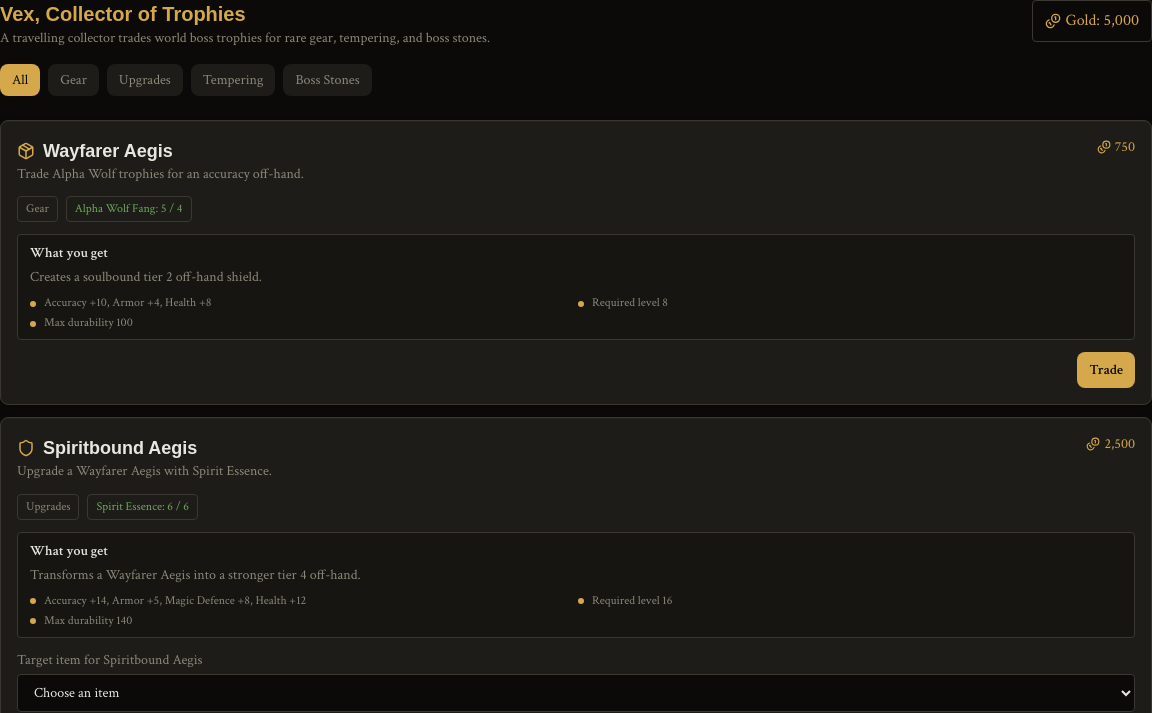
Test case: VexScreen › shows API errors and keeps the screen usable
The image size is (1152, 713).
Expected: the heading "Wayfarer Aegis" is shown, top-left (43, 137), bottom-right (173, 165)
Click the button with aria-label "Trade Wayfarer Aegis": (1106, 370) top-left (1078, 352), bottom-right (1135, 388)
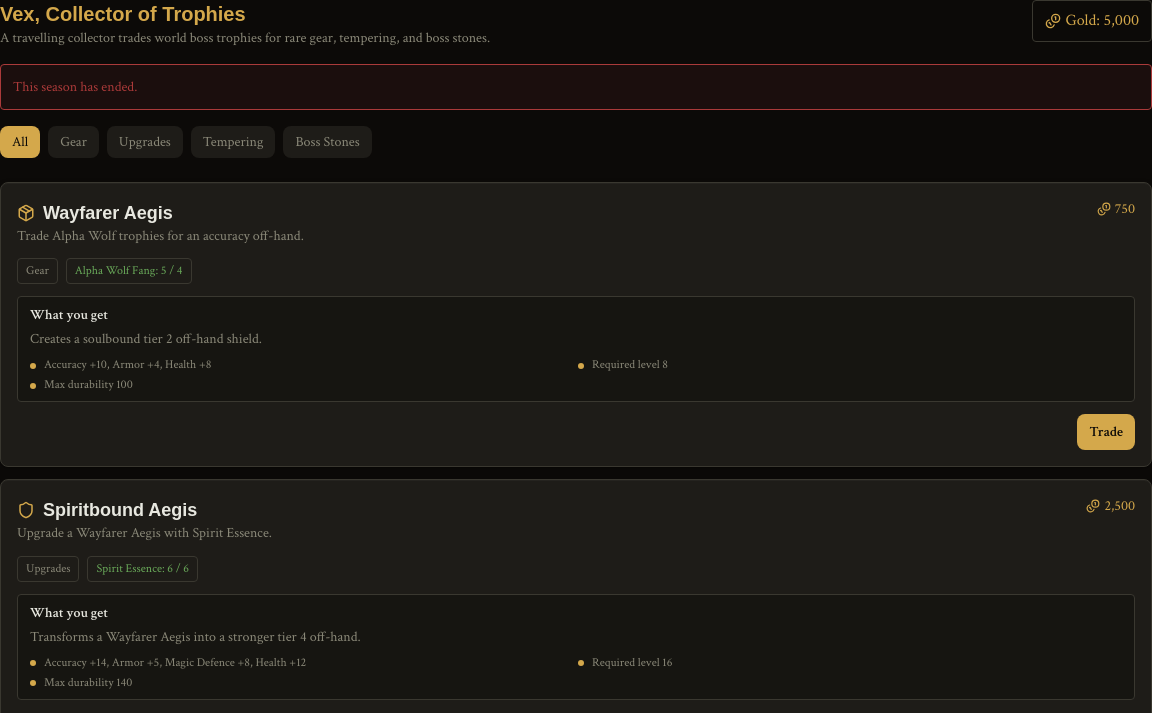
Expected: the button with aria-label "Trade Wayfarer Aegis" is enabled, top-left (1078, 414), bottom-right (1135, 450)
Result: the message reads "This season has ended." at top-left (13, 78), bottom-right (137, 96)
